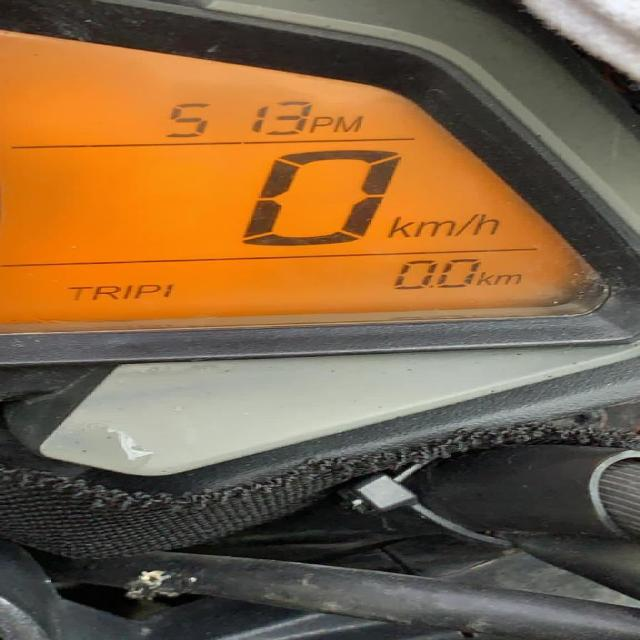odometer: (0, 26, 619, 341)
